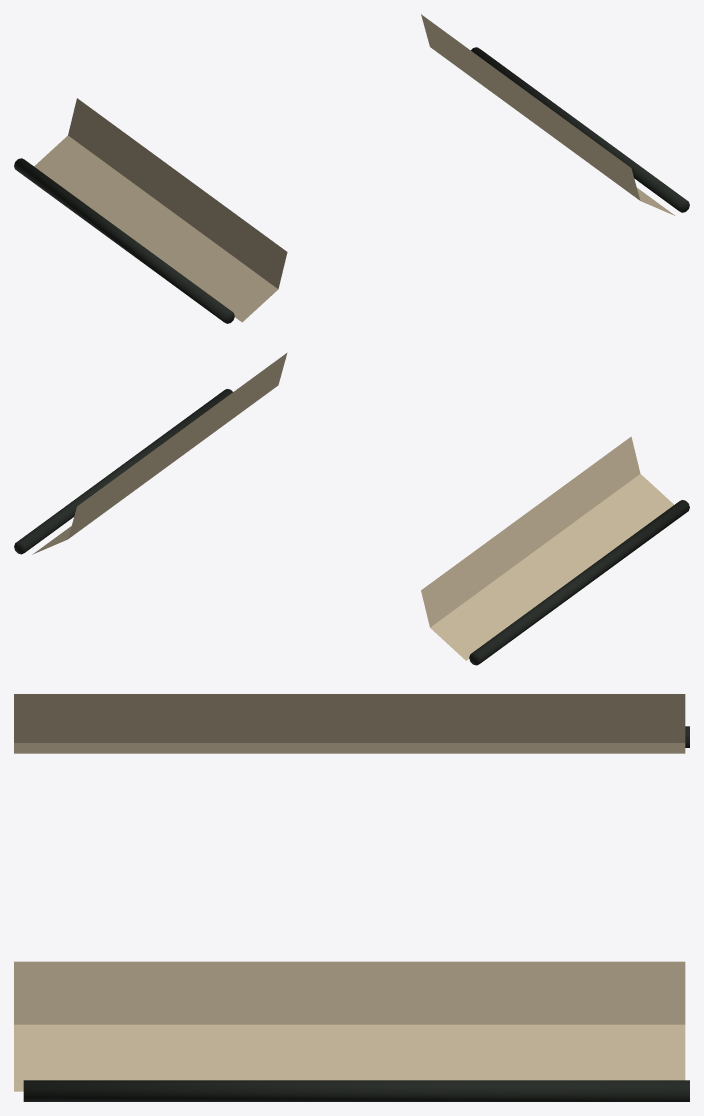
The model's file is PART_011_RockerGuards.glb.
3 views of the same model, one above another, from view 1: azimuth 30°, elevation 25°; view 2: azimuth 150°, elevation 25°; view 3: azimuth 270°, elevation 25° (orthographic). The views are drawn at different scales.
Visible parts, largest first — view 1: BODY_RockerGuard_L, BODY_RockerGuard_R, TRIM_RockerRail_L, TRIM_RockerRail_R; view 2: BODY_RockerGuard_L, BODY_RockerGuard_R, TRIM_RockerRail_L, TRIM_RockerRail_R; view 3: BODY_RockerGuard_R, BODY_RockerGuard_L, TRIM_RockerRail_R.
Part boxes in pixels (box(x1,y1,x2,y2)): BODY_RockerGuard_L: box(34, 98, 287, 322); BODY_RockerGuard_R: box(421, 14, 675, 215); TRIM_RockerRail_L: box(14, 158, 234, 323); TRIM_RockerRail_R: box(471, 47, 689, 212); BODY_RockerGuard_L: box(421, 436, 673, 660); BODY_RockerGuard_R: box(32, 352, 287, 554); TRIM_RockerRail_L: box(469, 500, 689, 665); TRIM_RockerRail_R: box(14, 389, 232, 554); BODY_RockerGuard_R: box(14, 961, 685, 1091); BODY_RockerGuard_L: box(14, 694, 685, 753); TRIM_RockerRail_R: box(23, 1080, 689, 1101).
Size of the model in its own units: 1.81 by 0.2219 by 1.42.
